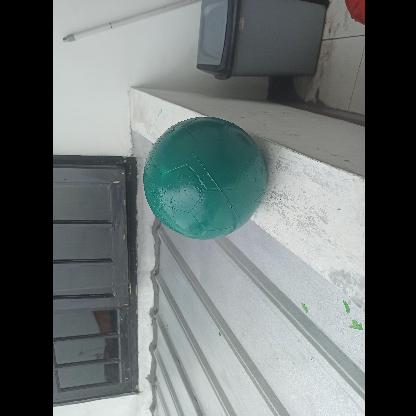green_ball: (137, 117, 265, 245)
